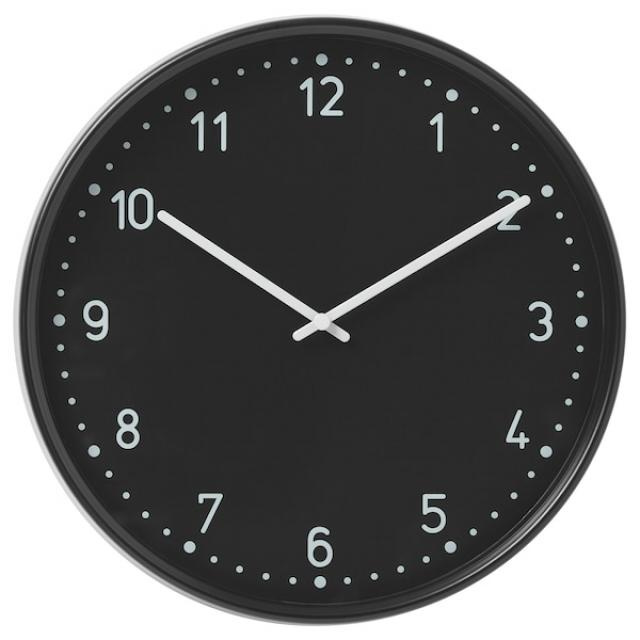clock: (0, 0, 638, 640)
